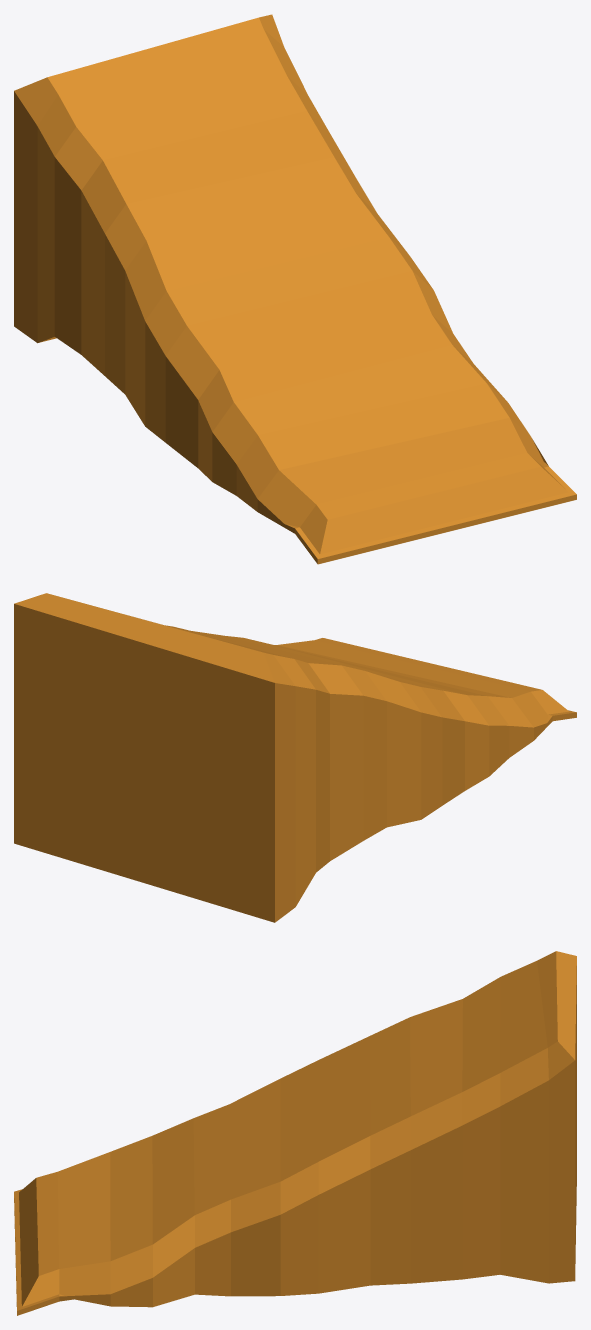
The model's file is Railway_up_03.fbx.
3 views of the same model, one above another, from view 1: azimuth 30°, elevation 25°; view 2: azimuth 150°, elevation 25°; view 3: azimuth 270°, elevation 25° (orthographic). The views are drawn at different scales.
Visible parts, largest first — view 1: up_03.001; view 2: up_03.001; view 3: up_03.001.
Boxes of the visible parts, x1,y1,x2,y2 form: up_03.001: [14, 14, 576, 564]; up_03.001: [14, 593, 576, 922]; up_03.001: [14, 951, 576, 1315].
Size of the model in its own units: 155 by 150 by 292.
